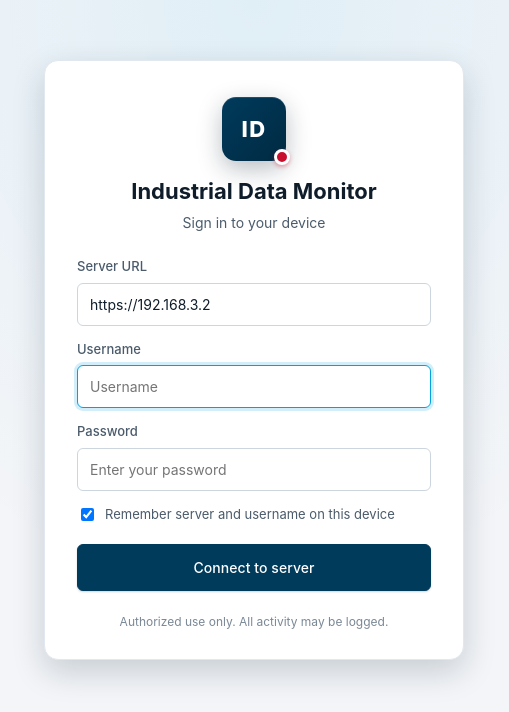
it: AuthenticationForm › rejects an obviously bad URL
This screenshot has width=509, height=712.
Step 1. Type "not a url" into the field labelled "Server URL" → (254, 304), box [77, 282, 431, 326]
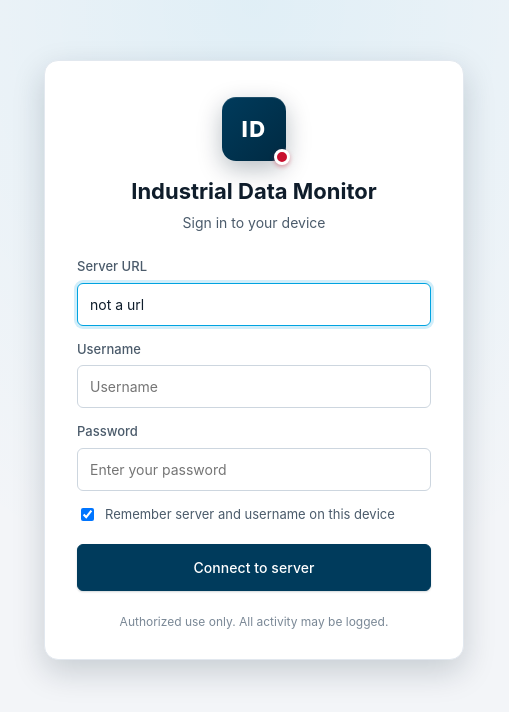
Step 2. Type "u" into the field labelled "Username" → (254, 386), box [77, 365, 431, 408]
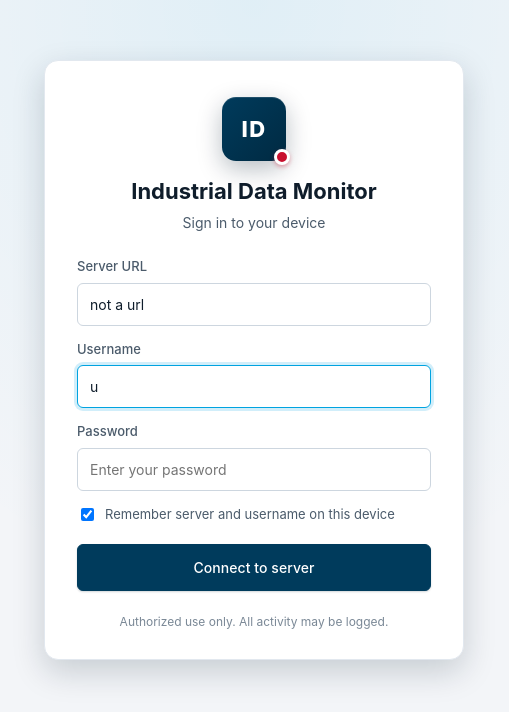
Step 3. Type "p" into the password field labelled "Password" → (254, 469), box [77, 448, 431, 490]
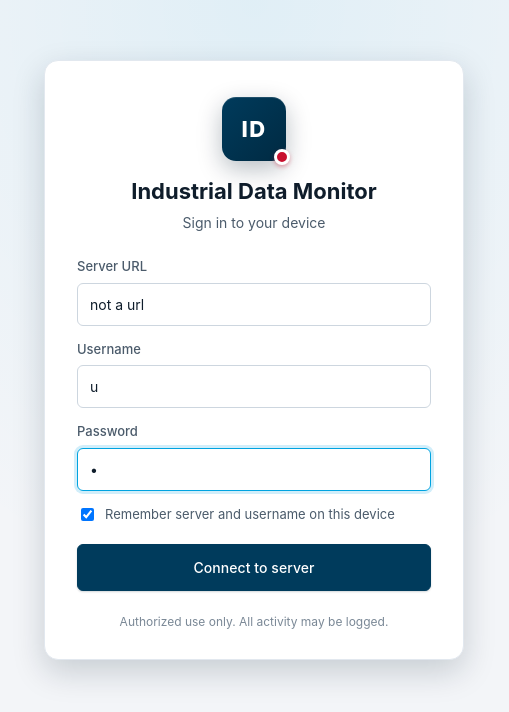
Step 4. Click the button "Connect to server" → (254, 568), box [77, 544, 431, 591]
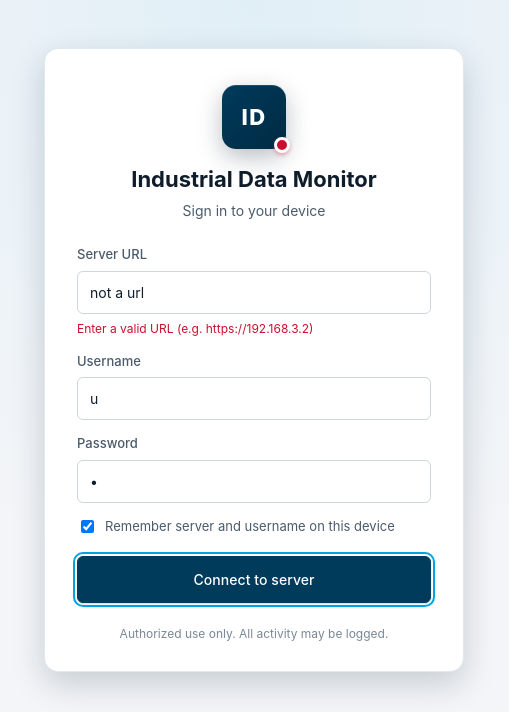
expect the text "Enter a valid URL (e.g. https://192.168.3.2)" is shown: met, box [77, 320, 314, 336]
